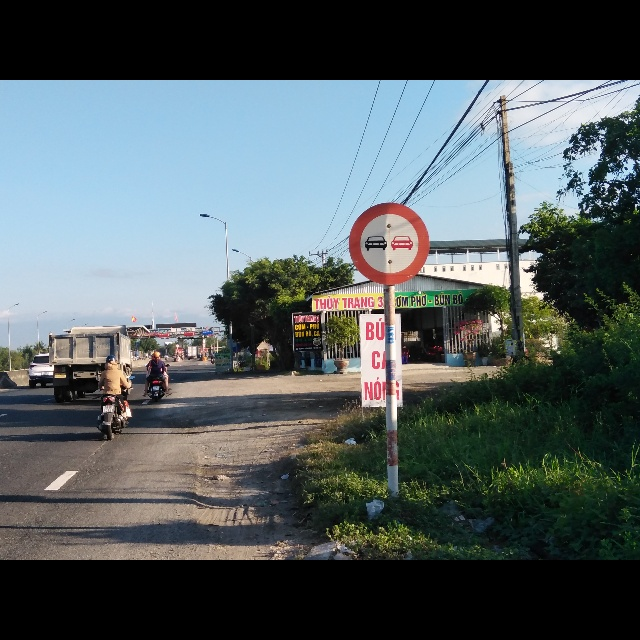Cấm vượt: (346, 201, 432, 285)
